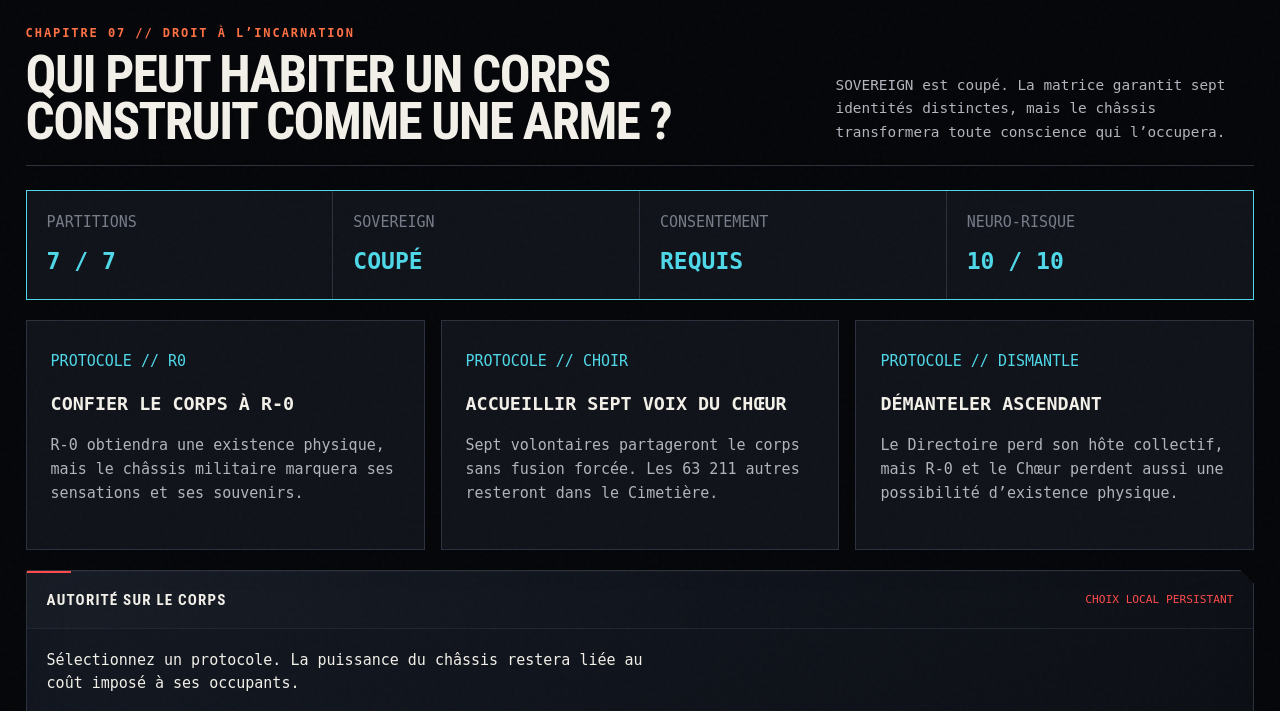
Scenario: Chapitre 07 — ASCENDANT › archive un hôte R-0 distinct
Click the radio button labelled "CONFIER LE CORPS À R-0": (225, 435) [26,320,424,550]
(page scrolled)
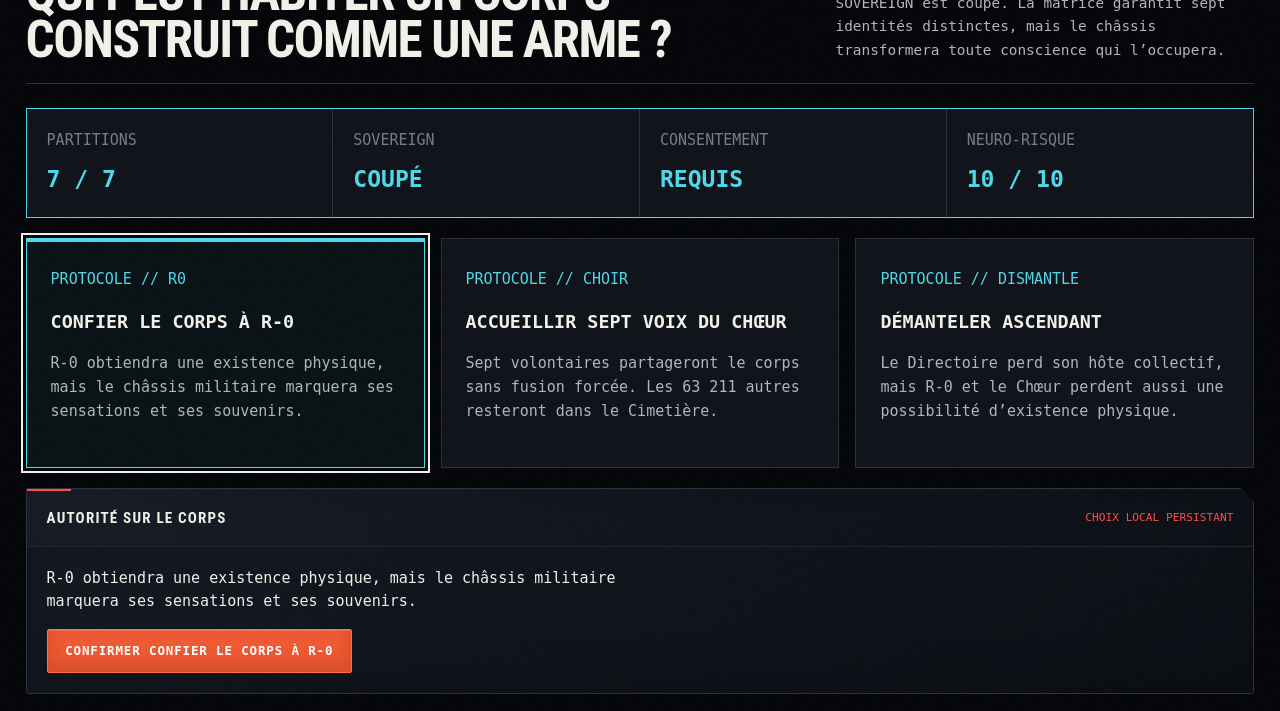
Click the button "CONFIRMER CONFIER LE CORPS À R-0": (199, 651) [47,629,352,673]
(page scrolled)
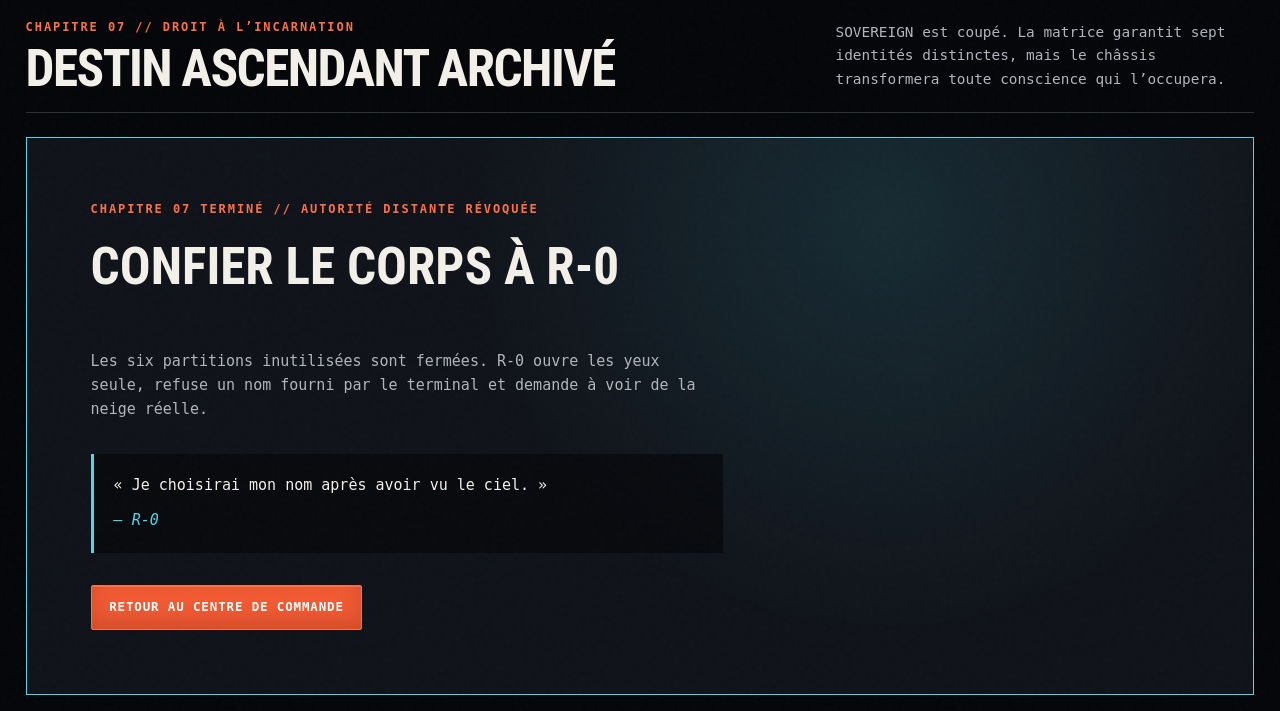
Expected: the heading "DESTIN ASCENDANT ARCHIVÉ" is shown, [26,38,615,99]
